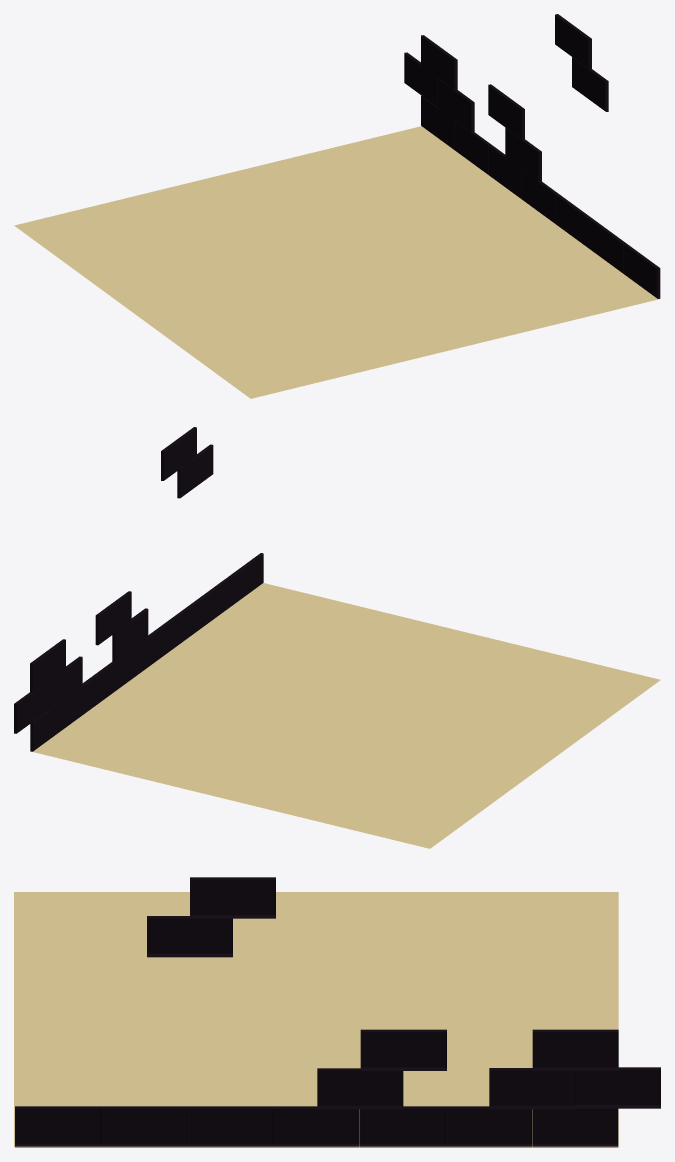
File: side_left_brick.FBX
3 renders of one model, top to bottom at view 1: azimuth 30°, elevation 25°; view 2: azimuth 150°, elevation 25°; view 3: azimuth 270°, elevation 25°, orthographic. The views are drawn at different scales.
Parts seen in each view (by area): view 1: Box001, Brick007, Brick020, Brick030, Brick019, Brick027, Brick017, Brick016, Brick005, Brick006, Brick004, Brick003 (+3 smaller); view 2: Box001, Brick020, Brick030, Brick019, Brick027, Brick017, Brick022, Brick001, Brick007, Brick006, Brick005, Brick004 (+3 smaller); view 3: Box001, Brick006, Brick001, Brick003, Brick005, Brick007, Brick002, Brick004, Brick027, Brick020, Brick017, Brick016 (+3 smaller).
Boxes of the visible parts, x1,y1,x2,y2 form: Box001: [14, 126, 660, 398]; Brick007: [623, 243, 660, 298]; Brick020: [488, 84, 524, 139]; Brick030: [555, 14, 591, 68]; Brick019: [421, 35, 457, 89]; Brick027: [572, 57, 608, 111]; Brick017: [505, 127, 541, 181]; Brick016: [438, 78, 474, 132]; Brick005: [589, 218, 626, 273]; Brick006: [556, 194, 592, 248]; Brick004: [488, 144, 522, 199]; Brick003: [522, 170, 558, 223]; Box001: [32, 583, 660, 848]; Brick020: [95, 591, 131, 645]; Brick030: [161, 427, 196, 480]; Brick019: [30, 639, 65, 692]; Brick027: [177, 444, 213, 498]; Brick017: [112, 608, 148, 661]; Brick022: [14, 681, 49, 733]; Brick001: [30, 698, 66, 751]; Brick007: [228, 553, 263, 606]; Brick006: [162, 601, 197, 654]; Brick005: [195, 577, 230, 630]; Brick004: [96, 650, 131, 702]; Box001: [14, 892, 618, 1147]; Brick006: [187, 1106, 273, 1147]; Brick001: [532, 1106, 618, 1147]; Brick003: [273, 1106, 359, 1147]; Brick005: [101, 1106, 187, 1147]; Brick007: [15, 1106, 101, 1147]; Brick002: [446, 1106, 531, 1147]; Brick004: [360, 1106, 445, 1147]; Brick027: [147, 916, 232, 957]; Brick020: [360, 1029, 446, 1070]; Brick017: [317, 1068, 403, 1109]; Brick016: [489, 1068, 575, 1109].
Size of the model in its own units: 60 by 64.22 by 29.4.
